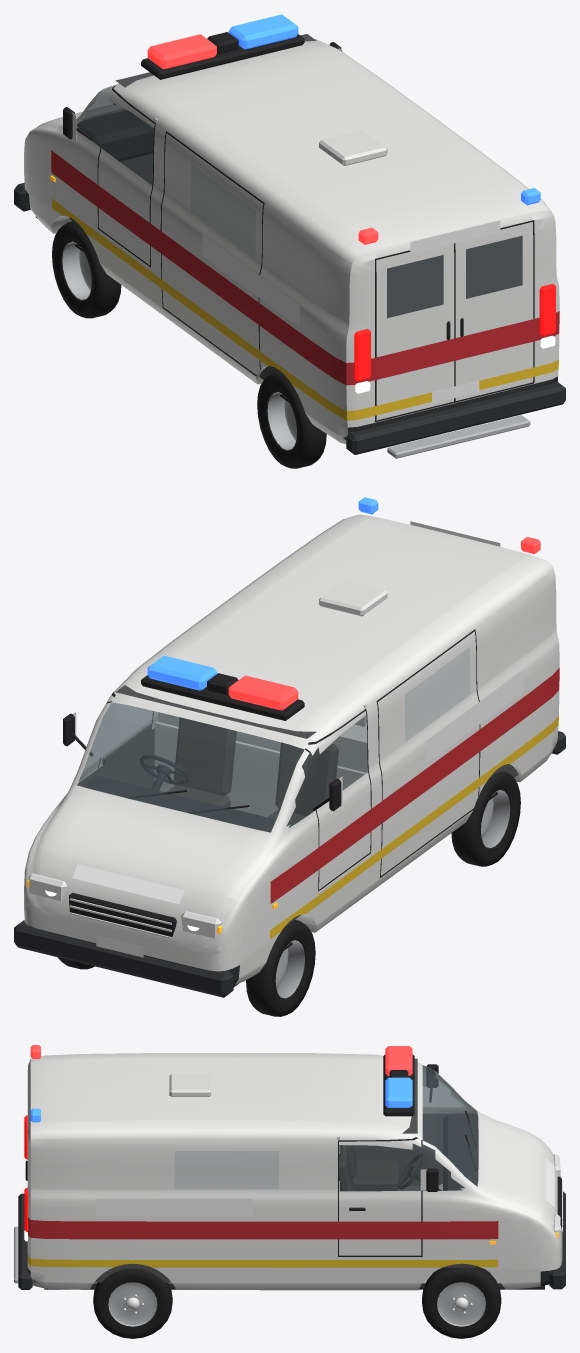
Rendered from ambulance.glb.
3 views of the same model, one above another, from view 1: azimuth 30°, elevation 25°; view 2: azimuth 150°, elevation 25°; view 3: azimuth 270°, elevation 25° (orthographic). The views are drawn at different scales.
Visible parts, largest first — view 1: amb_body, door_back_l, door_back_r, wheel_fl, wheel_rl; view 2: amb_body, wheel_fl, wheel_rl, door_cab; view 3: amb_body, door_cab, wheel_fr, wheel_rr.
Boxes of the visible parts, x1,y1,x2,y2 form: amb_body: (14,14,565,458); door_back_l: (376,243,454,420); door_back_r: (455,222,533,400); wheel_fl: (52,221,121,318); wheel_rl: (257,373,326,468); amb_body: (14,497,565,997); wheel_fl: (246,920,315,1016); wheel_rl: (451,771,520,866); door_cab: (99,694,152,767); amb_body: (14,1045,565,1290); door_cab: (339,1140,421,1255); wheel_fr: (422,1266,501,1338); wheel_rr: (93,1268,172,1338).
Size of the model in its own units: 2.42 by 2.4 by 5.29.
